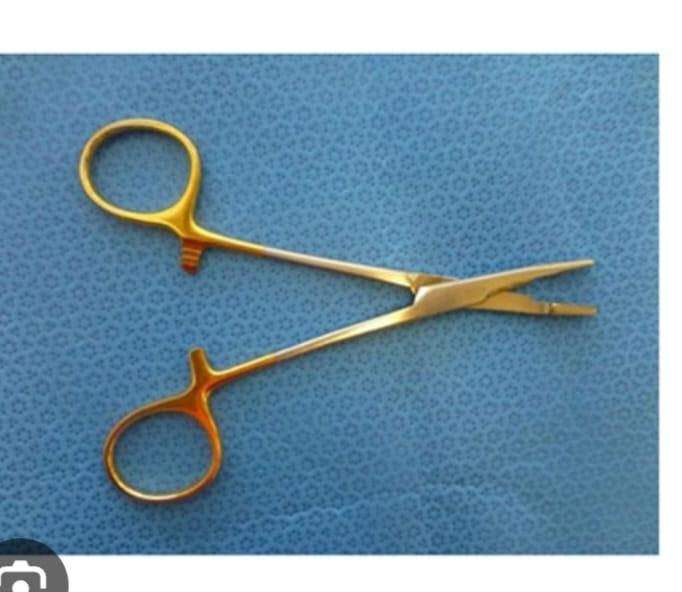Needle Holder: (67, 116, 604, 505)
